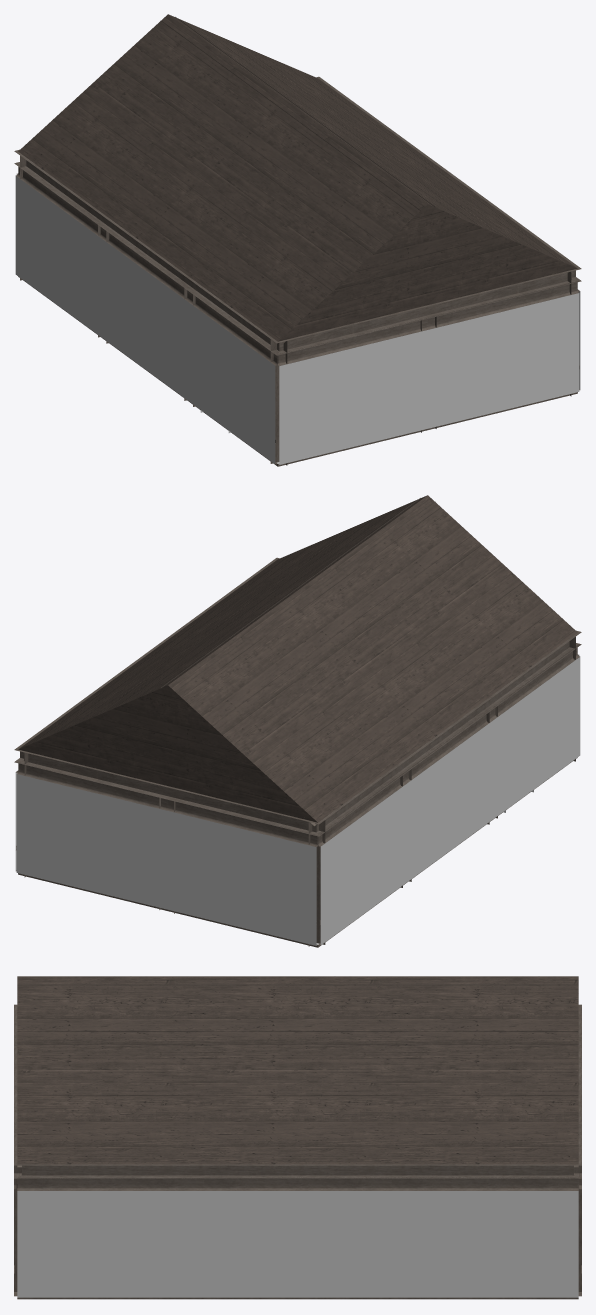
File: house_interior5.fbx
The picture shows the model from 3 angles, top to bottom: view 1: azimuth 30°, elevation 25°; view 2: azimuth 150°, elevation 25°; view 3: azimuth 270°, elevation 25°; orthographic projection. The views are drawn at different scales.
Parts seen in each view (by area): view 1: house_interior5; view 2: house_interior5; view 3: house_interior5.
Boxes of the visible parts, <box> form: house_interior5: <box>14,14,581,466</box>; house_interior5: <box>14,495,581,947</box>; house_interior5: <box>14,976,581,1299</box>.
Size of the model in its own units: 1017 by 720 by 1517.
